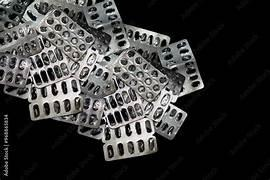pill_Strip: (16, 40, 202, 160), (24, 0, 110, 53), (125, 25, 184, 101), (50, 0, 110, 53), (132, 44, 185, 101), (36, 9, 94, 60), (113, 49, 167, 101), (135, 44, 184, 101), (158, 39, 203, 96), (58, 5, 110, 53), (84, 0, 129, 54), (59, 6, 110, 53), (28, 78, 82, 120), (102, 118, 156, 160), (142, 51, 185, 101), (125, 25, 169, 68), (104, 82, 144, 127), (146, 56, 185, 101), (29, 45, 70, 87), (146, 58, 184, 101), (53, 96, 104, 127), (23, 0, 87, 24), (23, 0, 86, 24), (28, 77, 80, 102), (29, 95, 81, 120), (103, 136, 157, 160), (102, 118, 154, 142), (69, 47, 103, 81), (81, 63, 115, 97), (158, 39, 196, 69), (155, 104, 186, 139), (0, 22, 37, 51), (84, 0, 122, 28), (130, 42, 164, 73), (79, 21, 110, 54), (0, 53, 30, 87), (125, 24, 169, 47), (175, 61, 203, 96), (156, 66, 184, 101), (0, 0, 30, 31), (143, 89, 172, 121), (158, 68, 185, 102), (1, 35, 43, 56), (160, 67, 185, 102), (46, 0, 84, 22), (23, 0, 54, 26), (78, 96, 104, 127), (104, 22, 129, 54), (130, 40, 159, 66), (4, 76, 31, 98), (77, 118, 105, 139), (99, 54, 117, 71), (51, 113, 78, 124), (36, 35, 54, 49), (57, 0, 95, 6), (38, 35, 54, 48), (113, 75, 126, 89), (85, 0, 96, 5), (171, 95, 178, 102), (87, 0, 96, 5)
